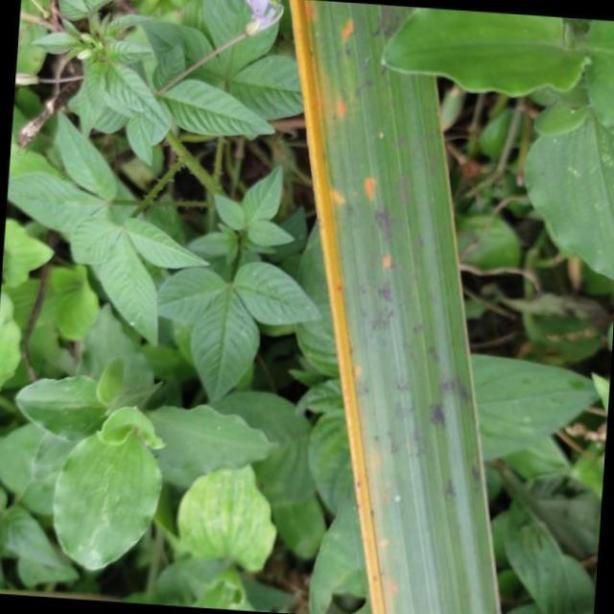Megnesium: (283, 0, 502, 614)
